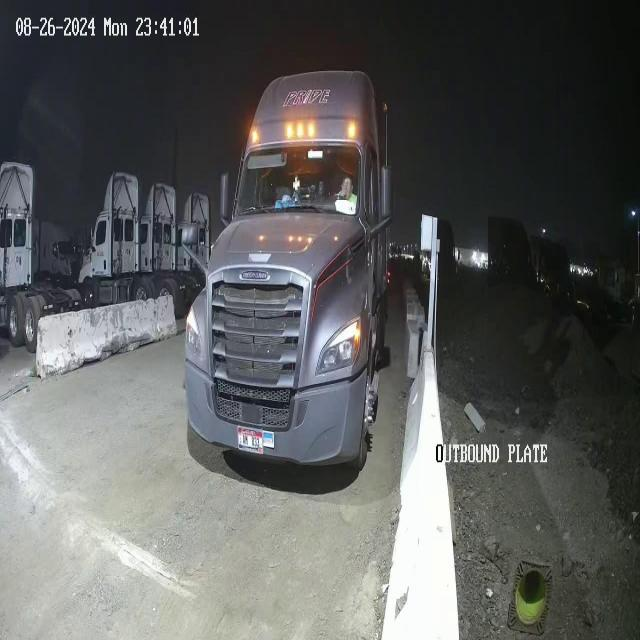TRUCK_OUT: (181, 68, 393, 474)
